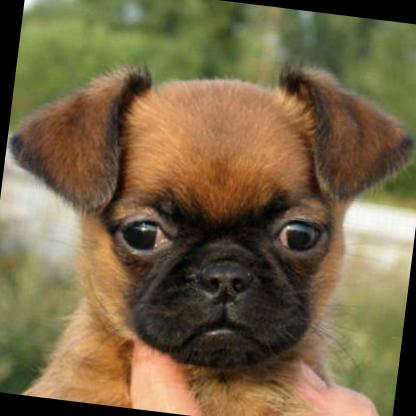Brabancon_griffon: (0, 25, 416, 416)
